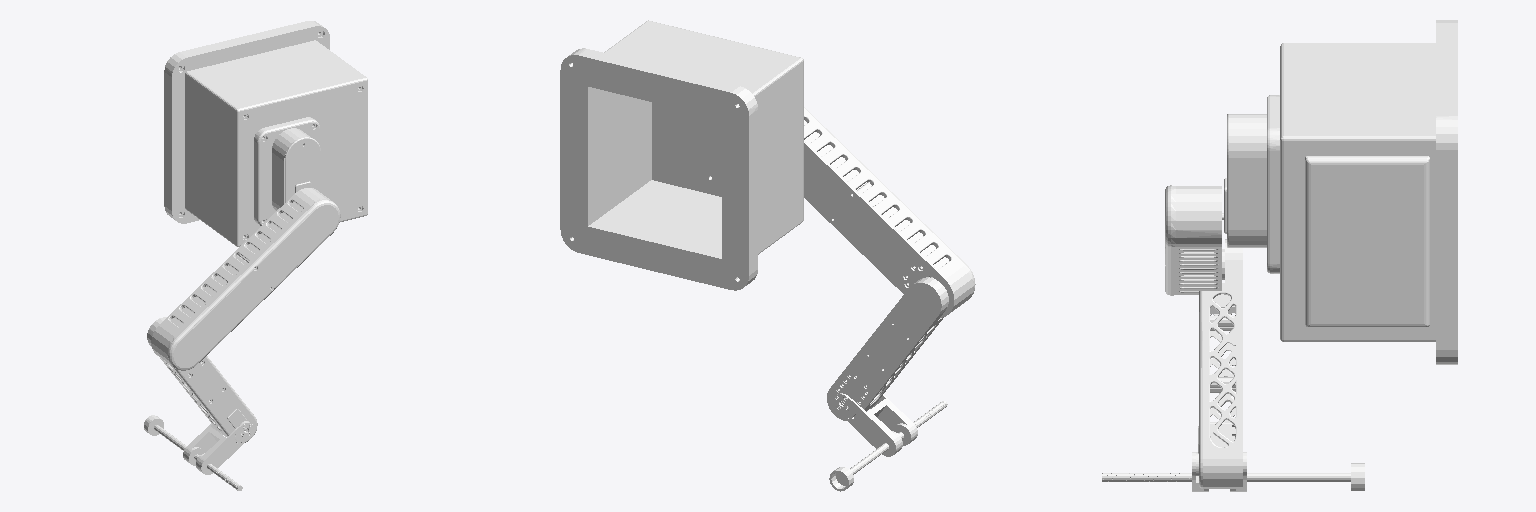
robot.urdf — 3 DOF ASSEMBLY:
<?xml version="1.0" encoding="utf-8"?>
<!-- This URDF was automatically created by SolidWorks to URDF Exporter! Originally created by Stephen Brawner (brawner@gmail.com) 
     Commit Version: 1.6.0-4-g7f85cfe  Build Version: 1.6.7995.38578
     For more information, please see http://wiki.ros.org/sw_urdf_exporter -->
<robot
  name="3 DOF ASSEMBLY">
  <link
    name="base_link">
    <inertial>
      <origin
        xyz="0.13220660585639 0.279333047664724 0.0917542996223185"
        rpy="0 0 0" />
      <mass
        value="3.06867974799927" />
      <inertia
        ixx="0.0187685344354821"
        ixy="2.66197631880982E-07"
        ixz="-0.000291650708630721"
        iyy="0.0196438224939697"
        iyz="-9.43301150385293E-06"
        izz="0.0306357921811754" />
    </inertial>
    <visual>
      <origin
        xyz="0 0 0"
        rpy="0 0 0" />
      <geometry>
        <mesh
          filename="package://3 DOF ASSEMBLY/meshes/base_link.STL" />
      </geometry>
      <material
        name="">
        <color
          rgba="1 1 1 1" />
      </material>
    </visual>
    <collision>
      <origin
        xyz="0 0 0"
        rpy="0 0 0" />
      <geometry>
        <mesh
          filename="package://3 DOF ASSEMBLY/meshes/base_link.STL" />
      </geometry>
    </collision>
  </link>
  <link
    name="Link-1">
    <inertial>
      <origin
        xyz="0.0275504663166616 0.128051815965138 -0.0479646426837205"
        rpy="0 0 0" />
      <mass
        value="0.475338521512901" />
      <inertia
        ixx="0.00347435224266405"
        ixy="-3.31302312965871E-05"
        ixz="1.24096414923422E-05"
        iyy="0.000569681276649854"
        iyz="0.0010554669350145"
        izz="0.00299212908885489" />
    </inertial>
    <visual>
      <origin
        xyz="0 0 0"
        rpy="0 0 0" />
      <geometry>
        <mesh
          filename="package://3 DOF ASSEMBLY/meshes/Link-1.STL" />
      </geometry>
      <material
        name="">
        <color
          rgba="1 1 1 1" />
      </material>
    </visual>
    <collision>
      <origin
        xyz="0 0 0"
        rpy="0 0 0" />
      <geometry>
        <mesh
          filename="package://3 DOF ASSEMBLY/meshes/Link-1.STL" />
      </geometry>
    </collision>
  </link>
  <joint
    name="J1"
    type="revolute">
    <origin
      xyz="0.1025 -0.20875 0.24381"
      rpy="-2.177 0 -1.5708" />
    <parent
      link="base_link" />
    <child
      link="Link-1" />
    <axis
      xyz="1 0 0" />
    <limit
      lower="0"
      upper="0"
      effort="0"
      velocity="0" />
  </joint>
  <link
    name="Link-2">
    <inertial>
      <origin
        xyz="-0.0182878154219597 -0.000209987310170245 0.103838234741323"
        rpy="0 0 0" />
      <mass
        value="0.186622137700528" />
      <inertia
        ixx="0.000584712188548964"
        ixy="1.73460594303873E-08"
        ixz="-6.15785457437732E-06"
        iyy="0.000570541927130588"
        iyz="-1.4693588511457E-07"
        izz="5.24819139517846E-05" />
    </inertial>
    <visual>
      <origin
        xyz="0 0 0"
        rpy="0 0 0" />
      <geometry>
        <mesh
          filename="package://3 DOF ASSEMBLY/meshes/Link-2.STL" />
      </geometry>
      <material
        name="">
        <color
          rgba="1 1 1 1" />
      </material>
    </visual>
    <collision>
      <origin
        xyz="0 0 0"
        rpy="0 0 0" />
      <geometry>
        <mesh
          filename="package://3 DOF ASSEMBLY/meshes/Link-2.STL" />
      </geometry>
    </collision>
  </link>
  <joint
    name="J2"
    type="revolute">
    <origin
      xyz="0.0167 0.23412 -0.087693"
      rpy="-0.3584 0 0" />
    <parent
      link="Link-1" />
    <child
      link="Link-2" />
    <axis
      xyz="0 0 0" />
    <limit
      lower="0"
      upper="0"
      effort="0"
      velocity="0" />
  </joint>
  <link
    name="Link-3">
    <inertial>
      <origin
        xyz="0.0362217618907118 2.22477784160569E-07 0.0626841794915551"
        rpy="0 0 0" />
      <mass
        value="0.146739311427698" />
      <inertia
        ixx="2.16732890086167E-05"
        ixy="2.62856635780799E-10"
        ixz="5.83511277008027E-09"
        iyy="0.000604765504190384"
        iyz="8.27309339334866E-10"
        izz="0.000590084916687796" />
    </inertial>
    <visual>
      <origin
        xyz="0 0 0"
        rpy="0 0 0" />
      <geometry>
        <mesh
          filename="package://3 DOF ASSEMBLY/meshes/Link-3.STL" />
      </geometry>
      <material
        name="">
        <color
          rgba="1 1 1 1" />
      </material>
    </visual>
    <collision>
      <origin
        xyz="0 0 0"
        rpy="0 0 0" />
      <geometry>
        <mesh
          filename="package://3 DOF ASSEMBLY/meshes/Link-3.STL" />
      </geometry>
    </collision>
  </link>
  <joint
    name="J3"
    type="revolute">
    <origin
      xyz="0 -0.00091924 0.17881"
      rpy="1.5708 0 -3.1416" />
    <parent
      link="Link-2" />
    <child
      link="Link-3" />
    <axis
      xyz="1 0 0" />
    <limit
      lower="0"
      upper="0"
      effort="0"
      velocity="0" />
  </joint>
</robot>

--- Render facts (derived) ---
3 views of the same robot in one strip: view 1: azimuth 30°, elevation 25°; view 2: azimuth 150°, elevation 25°; view 3: azimuth 270°, elevation 25° (orthographic).
Model 3 DOF ASSEMBLY with 4 links and 3 joints (3 revolute), rooted at base_link, posed all joints at 0.
Links seen in each view (by area): view 1: base_link, Link-1, Link-2, Link-3; view 2: base_link, Link-1, Link-2, Link-3; view 3: base_link, Link-2, Link-1, Link-3.
Link boxes in pixels (box(x1,y1,x2,y2)): base_link: box(164, 21, 367, 246); Link-1: box(151, 188, 340, 370); Link-2: box(147, 317, 257, 442); Link-3: box(144, 415, 253, 490); base_link: box(560, 20, 803, 290); Link-1: box(804, 107, 975, 317); Link-2: box(827, 277, 948, 420); Link-3: box(829, 393, 947, 491); base_link: box(1222, 20, 1457, 364); Link-2: box(1196, 239, 1242, 488); Link-1: box(1165, 185, 1221, 295); Link-3: box(1102, 452, 1364, 491).
Size in the robot's own frame: 0.3804 by 0.3144 by 0.4966 metres.
Meshes: 4 distinct files referenced, 4 mesh visuals loaded (4 binary STL).
